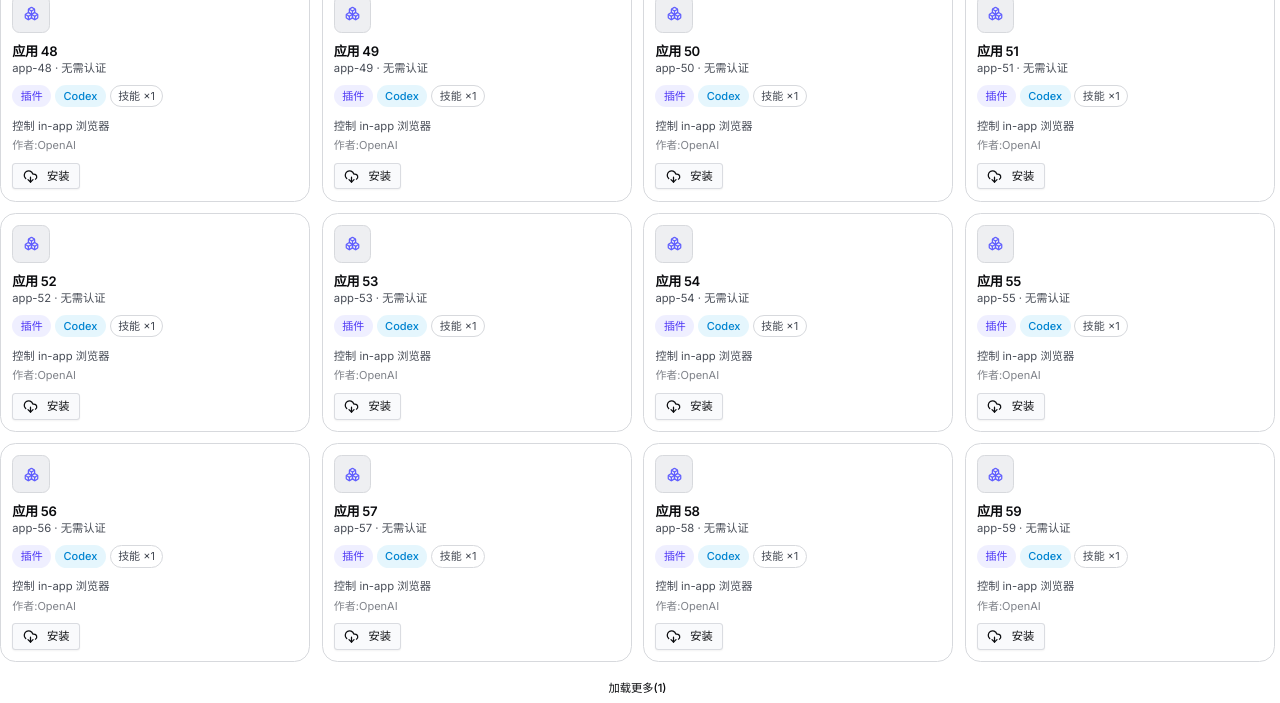
it: CapabilityMarketPanel › 分页加载全部应用，首屏不再请求完整目录
(page scrolled)
Click the button "加载更多(1)": (638,688) [597,673,678,702]
(page scrolled)
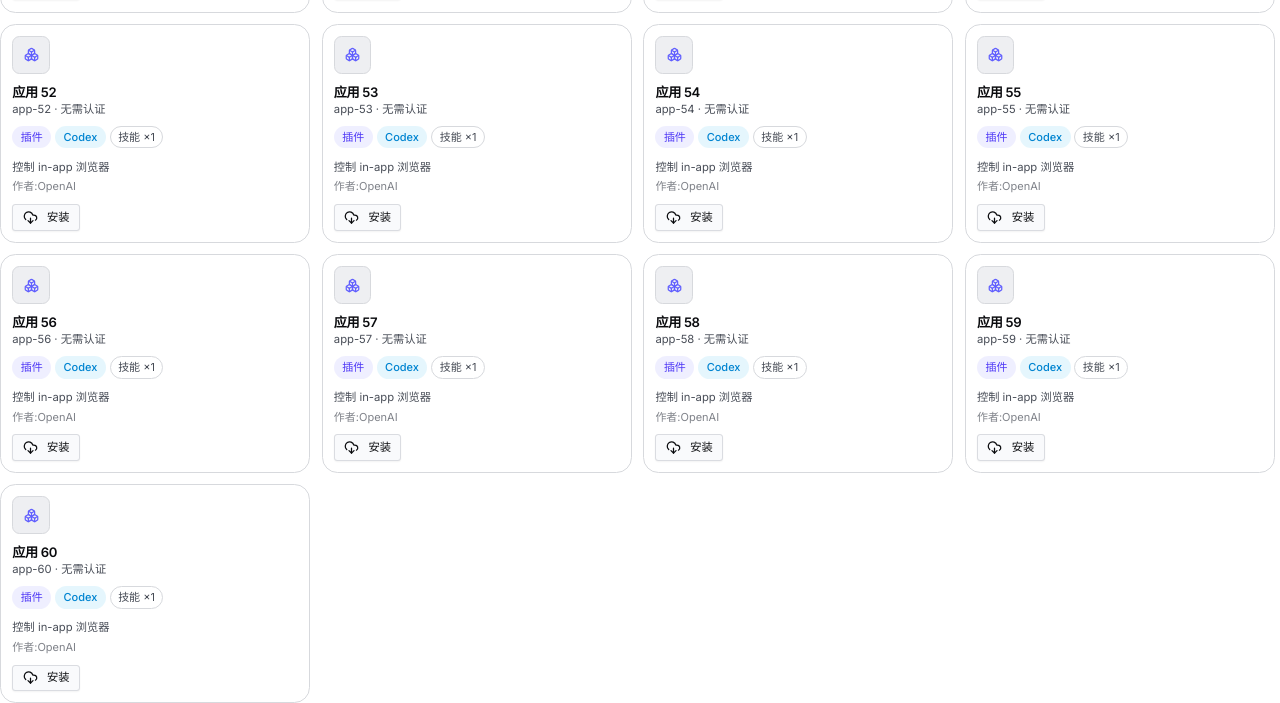
Result: the text "应用 60" is shown at [12,544,57,560]
